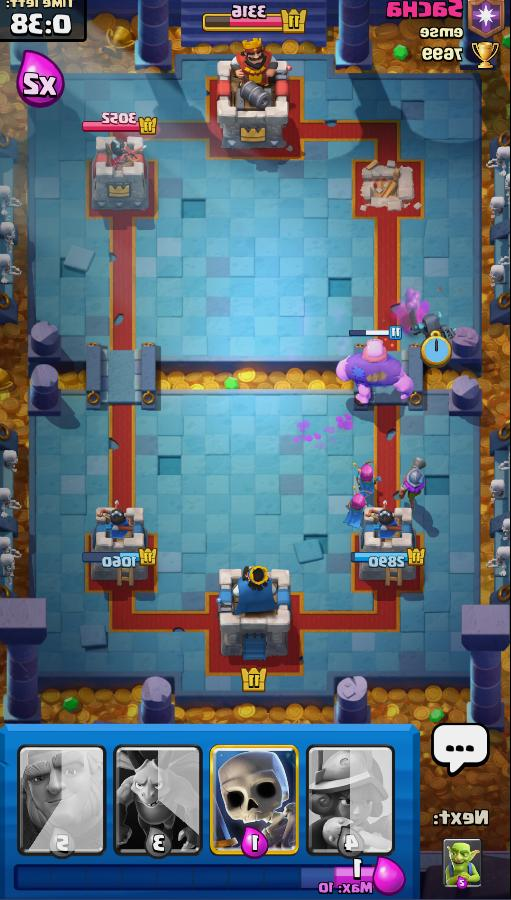archere: (349, 454, 384, 501), (339, 490, 374, 534)
geant: (323, 330, 416, 415)
mini_PEKKA: (408, 309, 458, 349)
mousquetaire: (391, 451, 441, 513)
